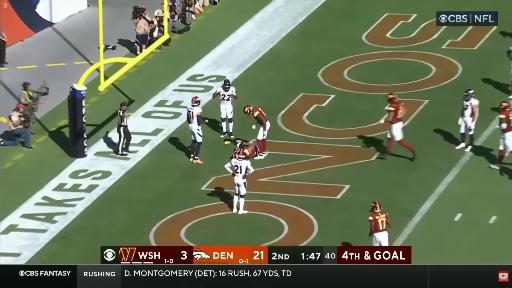Helmet: (234, 148, 247, 159), (221, 78, 231, 92), (464, 89, 474, 100), (371, 202, 381, 211), (191, 96, 200, 106), (500, 102, 510, 110), (387, 94, 397, 102), (244, 106, 252, 114)
Jersey: (369, 210, 387, 233), (231, 159, 253, 177), (387, 102, 404, 124), (461, 98, 479, 117), (216, 87, 235, 105), (239, 143, 259, 158), (187, 106, 201, 126), (252, 107, 267, 125), (499, 111, 511, 133)
Player: (379, 94, 416, 161), (225, 148, 254, 214), (456, 89, 479, 151), (490, 102, 511, 169), (187, 97, 208, 164), (213, 79, 237, 137), (244, 106, 270, 159), (369, 202, 390, 245), (234, 142, 258, 158)
